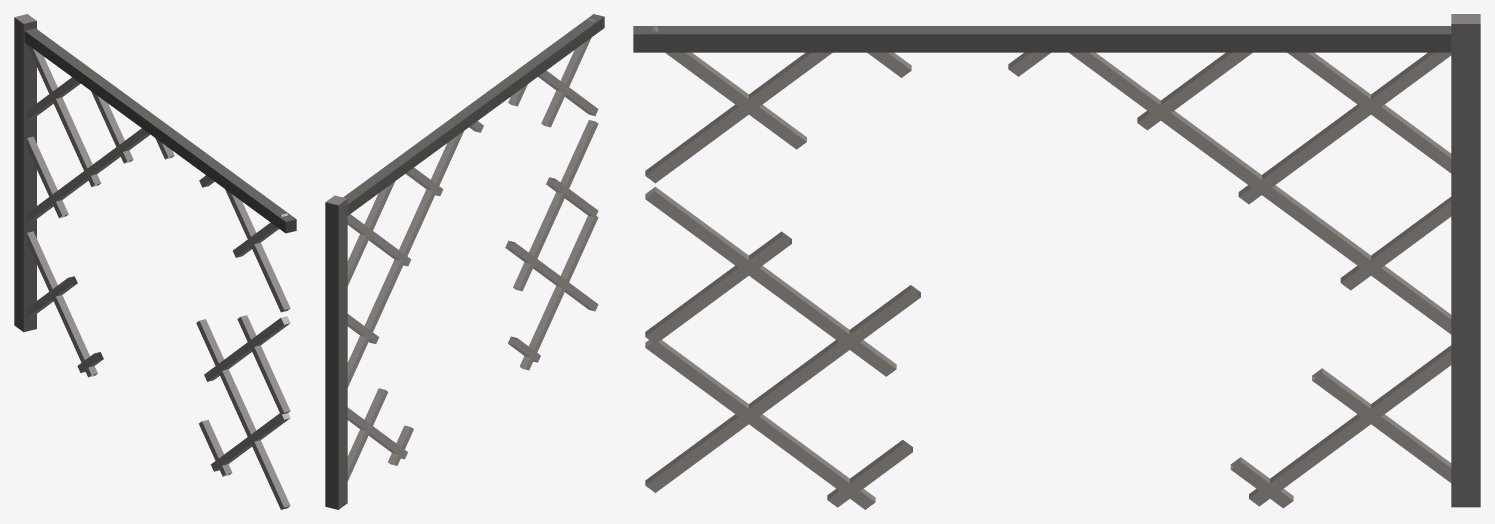
The model's file is Fence_Wire_Damaged_03.fbx.
3 renders of one model, left to right at view 1: azimuth 30°, elevation 25°; view 2: azimuth 150°, elevation 25°; view 3: azimuth 270°, elevation 25°, orthographic. The views are drawn at different scales.
Parts seen in each view (by area): view 1: Fence_Wire_Damaged_03; view 2: Fence_Wire_Damaged_03; view 3: Fence_Wire_Damaged_03.
Part boxes in pixels (bbox=[...]): Fence_Wire_Damaged_03: bbox=[14, 14, 296, 509]; Fence_Wire_Damaged_03: bbox=[325, 14, 604, 509]; Fence_Wire_Damaged_03: bbox=[633, 14, 1480, 509].
Bounding box in the file's own units: 0.1383 × 4.9 × 3.11.
